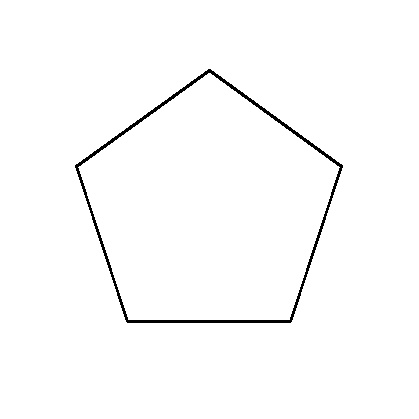line_segment: (75, 69, 344, 324)
